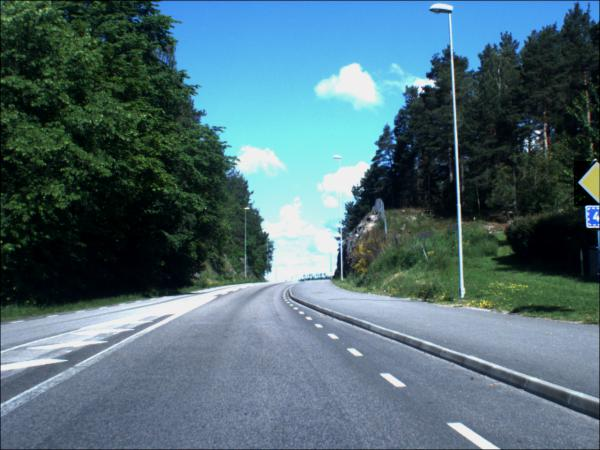PRIORITY_ROAD: (575, 162, 600, 208)
